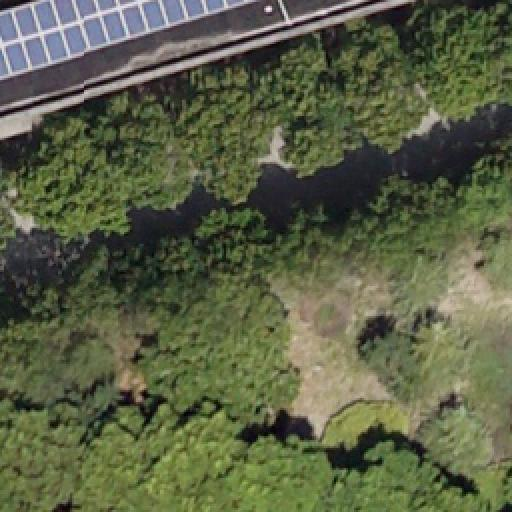solar-panel: (0, 0, 260, 80)
